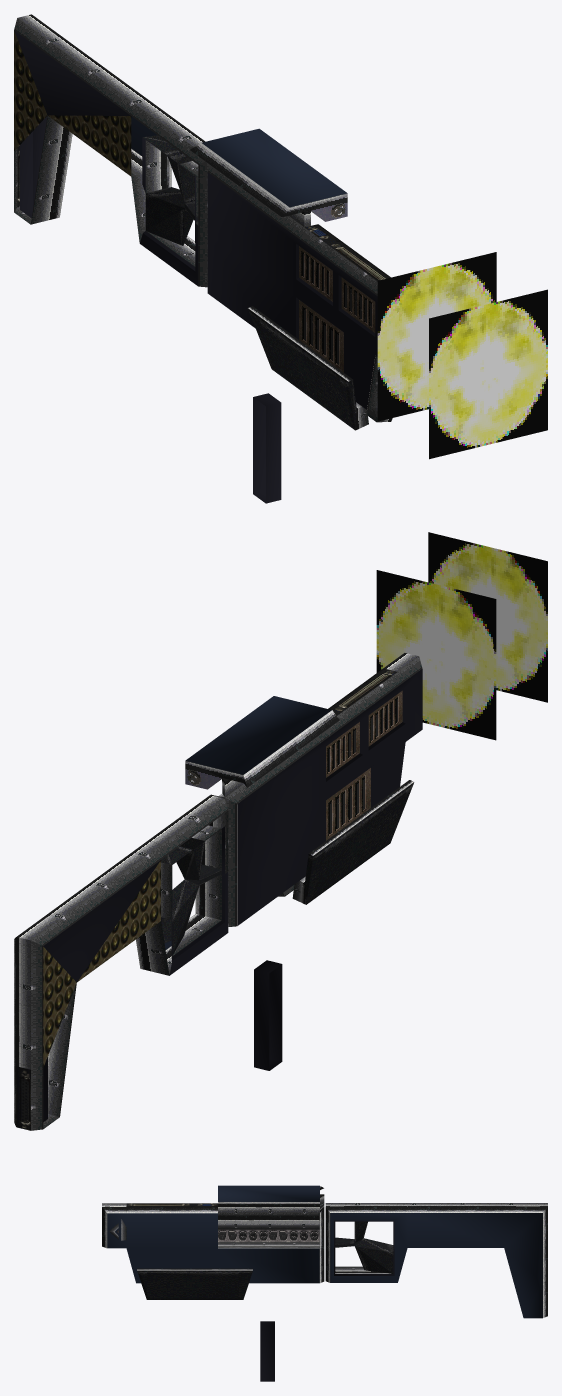
Rendered from Gun000E.obj.
3 renders of one model, top to bottom at view 1: azimuth 30°, elevation 25°; view 2: azimuth 150°, elevation 25°; view 3: azimuth 270°, elevation 25°, orthographic. The views are drawn at different scales.
Parts seen in each view (by area): view 1: Room01_primary, Room03_primary, Room07_primary, Room05_primary; view 2: Room01_primary, Room03_primary, Room07_primary; view 3: Room01_primary, Room07_primary.
Part boxes in pixels (<box>): Room01_primary: <box>14,14,392,430</box>; Room03_primary: <box>377,252,547,459</box>; Room07_primary: <box>253,393,281,503</box>; Room05_primary: <box>20,116,47,217</box>; Room01_primary: <box>14,653,422,1130</box>; Room03_primary: <box>376,532,547,740</box>; Room07_primary: <box>254,960,282,1070</box>; Room01_primary: <box>102,1185,547,1318</box>; Room07_primary: <box>260,1321,274,1381</box>.
Bounding box in the file's own units: 123 × 349 × 829.
Materials: 46 (46 with a texture image).
